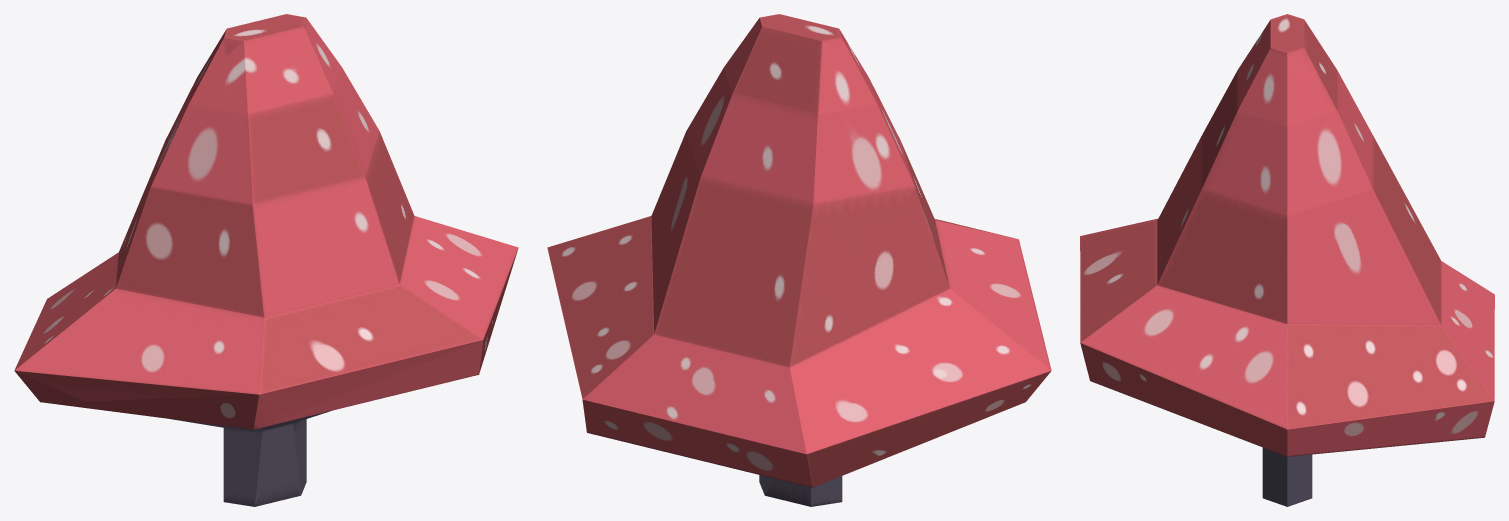
File: New_MushroomHead.fbx
3 views of the same model, side by side, from view 1: azimuth 30°, elevation 25°; view 2: azimuth 150°, elevation 25°; view 3: azimuth 270°, elevation 25° (orthographic). The views are drawn at different scales.
Visible parts, largest first — view 1: Pää; view 2: Pää; view 3: Pää.
Part boxes in pixels (<box>): Pää: <box>14,14,518,506</box>; Pää: <box>547,14,1051,506</box>; Pää: <box>1080,14,1494,506</box>.
Bounding box in the file's own units: 3.61 × 3.18 × 2.63.
